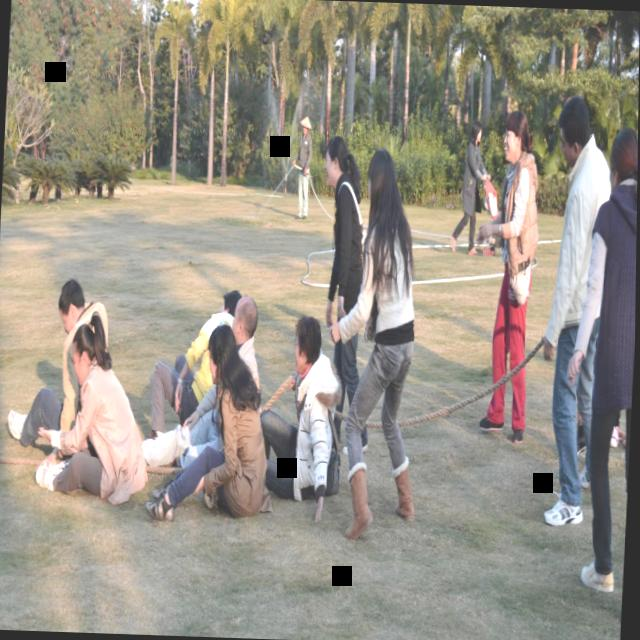Fall-Detected: (139, 272, 251, 447)
